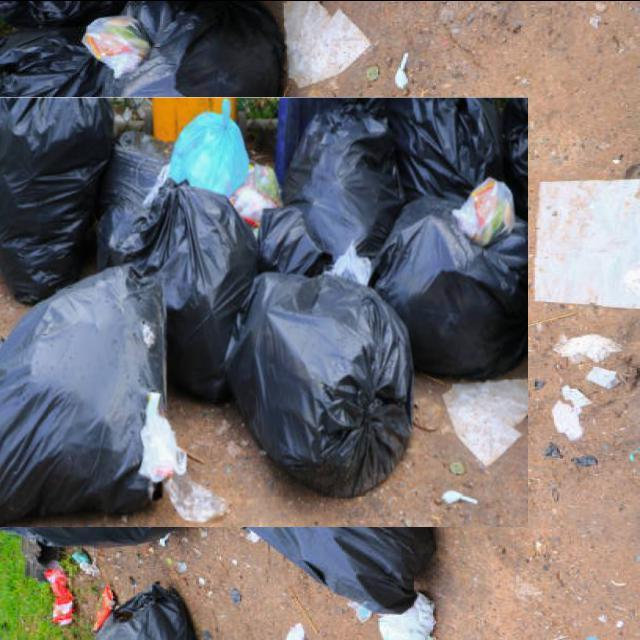Trashbag: (0, 256, 165, 512), (218, 281, 408, 487), (400, 193, 538, 367), (0, 86, 123, 275), (289, 113, 405, 271), (405, 77, 493, 181), (119, 188, 224, 258)
